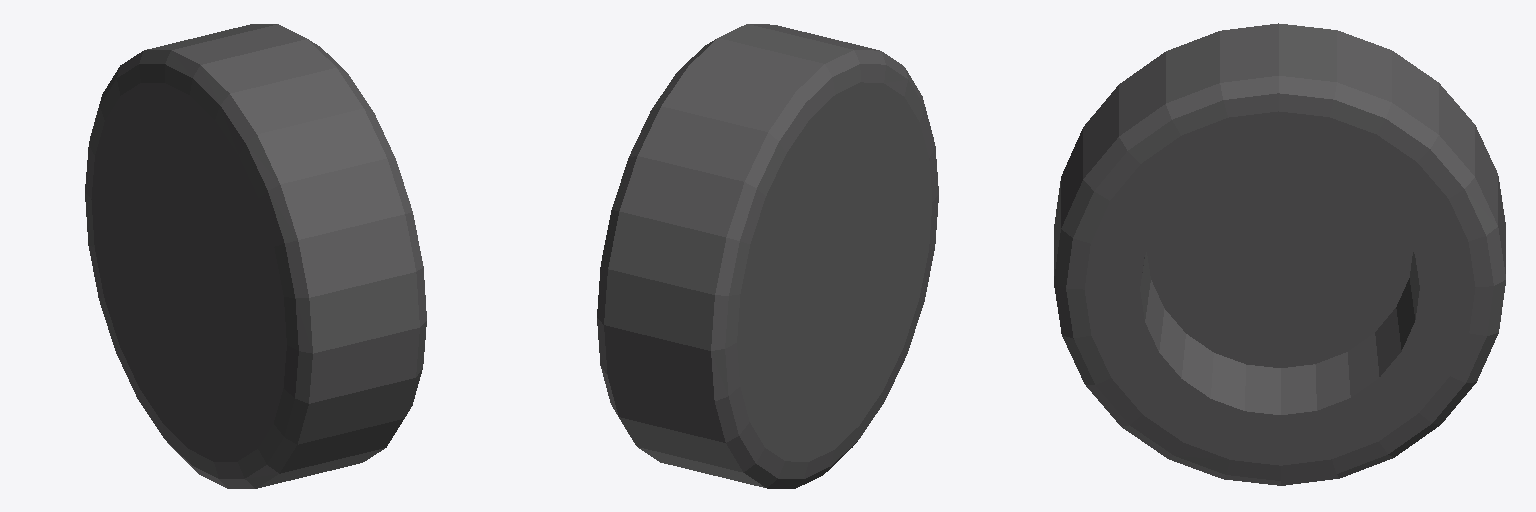
Rendered from rueda.obj.
3 renders of one model, left to right at view 1: azimuth 30°, elevation 25°; view 2: azimuth 150°, elevation 25°; view 3: azimuth 270°, elevation 25°, orthographic.
Visible parts, largest first — view 1: ruedaDD; view 2: ruedaDD; view 3: ruedaDD.
Boxes of the visible parts, box(x1,y1,x2,y2) form: ruedaDD: box(85, 24, 426, 488); ruedaDD: box(597, 24, 938, 488); ruedaDD: box(1054, 23, 1505, 485).
Size of the model in its own units: 0.252 by 0.7402 by 0.74.